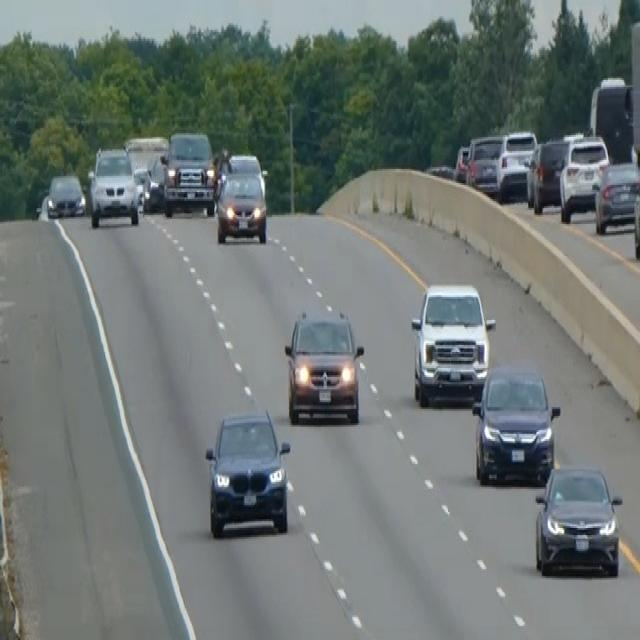bus: (586, 73, 636, 163)
car: (203, 405, 291, 539), (471, 361, 560, 485), (533, 462, 623, 578), (214, 151, 268, 244), (160, 128, 216, 217), (558, 132, 610, 222), (87, 144, 139, 228), (525, 135, 570, 213), (593, 158, 639, 233), (123, 133, 168, 204), (496, 128, 537, 201), (464, 132, 503, 196), (45, 170, 85, 218), (141, 150, 167, 212), (632, 164, 639, 262), (453, 142, 470, 182)
jeep: (409, 279, 496, 407)
minivan: (282, 304, 365, 427)
